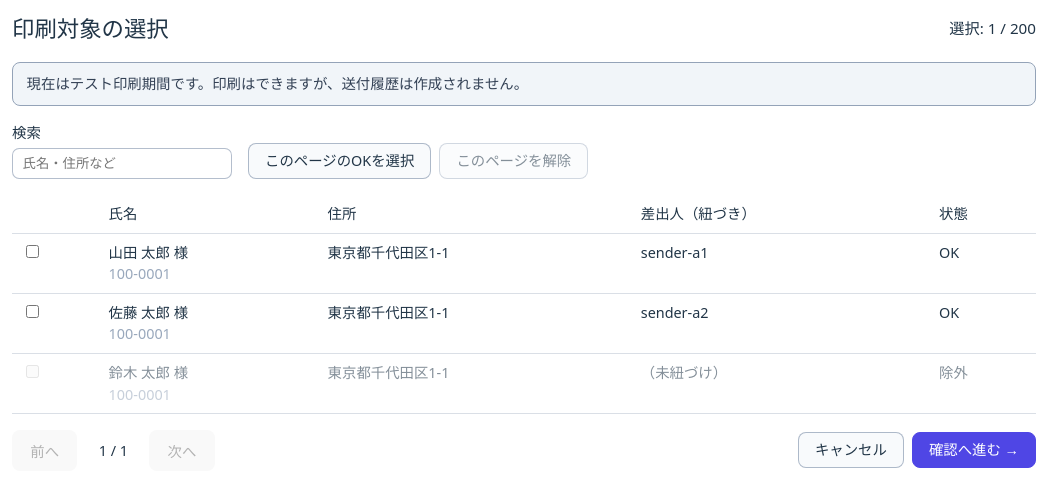
PrintSelectPage bulk selection › selects only OK rows on the current page and clears only that page
The width and height of the screenshot is (1048, 485).
Expected: the checkbox named "山田 太郎 を選択" is shown, [26,245,39,258]
Expected: the text "（未紐づけ）" is shown, [631,354,930,414]
Step 1. Click the button "このページのOKを選択" → [340, 161], box [248,143,431,179]
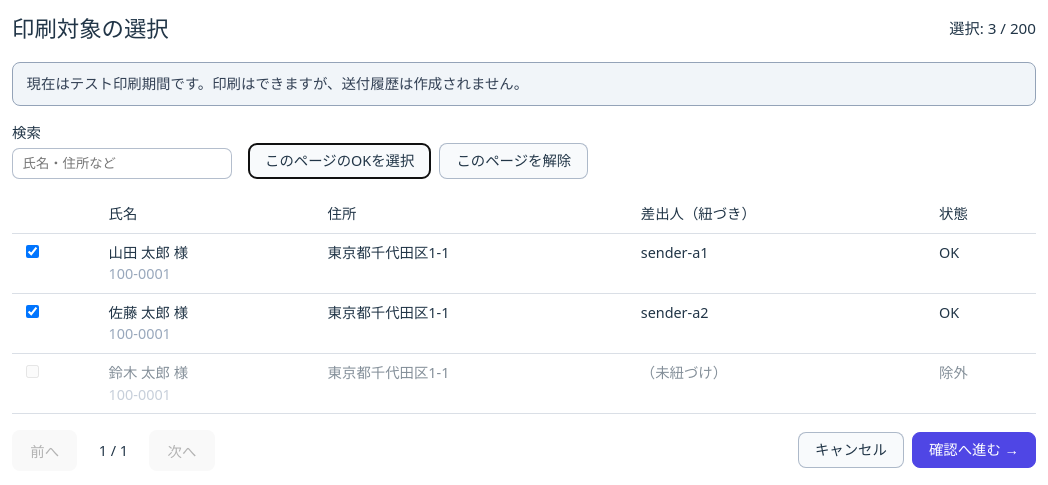
Now the checkbox named "山田 太郎 を選択" is checked, box [26,245,39,258]
Now the checkbox named "佐藤 太郎 を選択" is checked, box [26,305,39,318]
Now the text "選択: 3 / 200" is shown, box [949,17,1036,40]
Step 2. Click the button "このページを解除" → [514, 161], box [439,143,588,179]
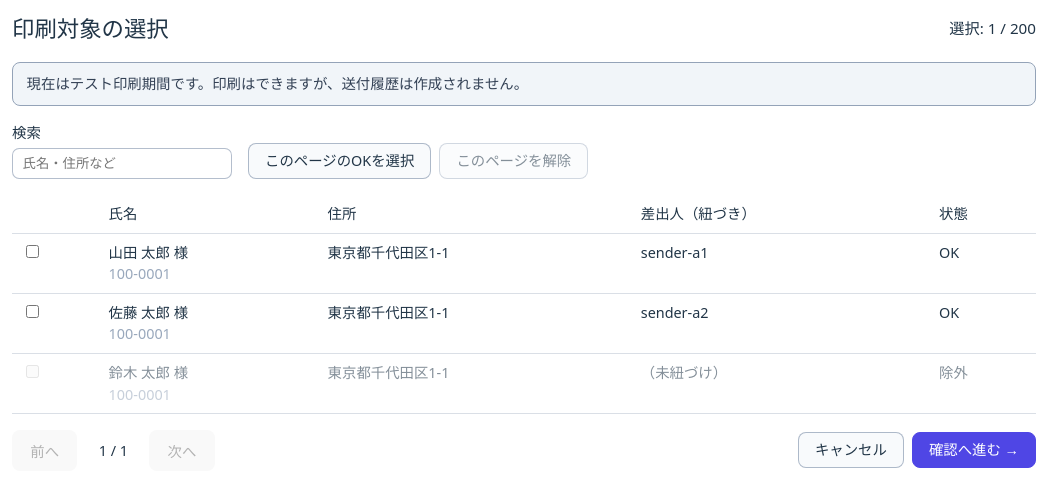
Now the checkbox named "山田 太郎 を選択" is not checked, box [26,245,39,258]
Now the checkbox named "佐藤 太郎 を選択" is not checked, box [26,305,39,318]
Now the text "選択: 1 / 200" is shown, box [949,17,1036,40]
